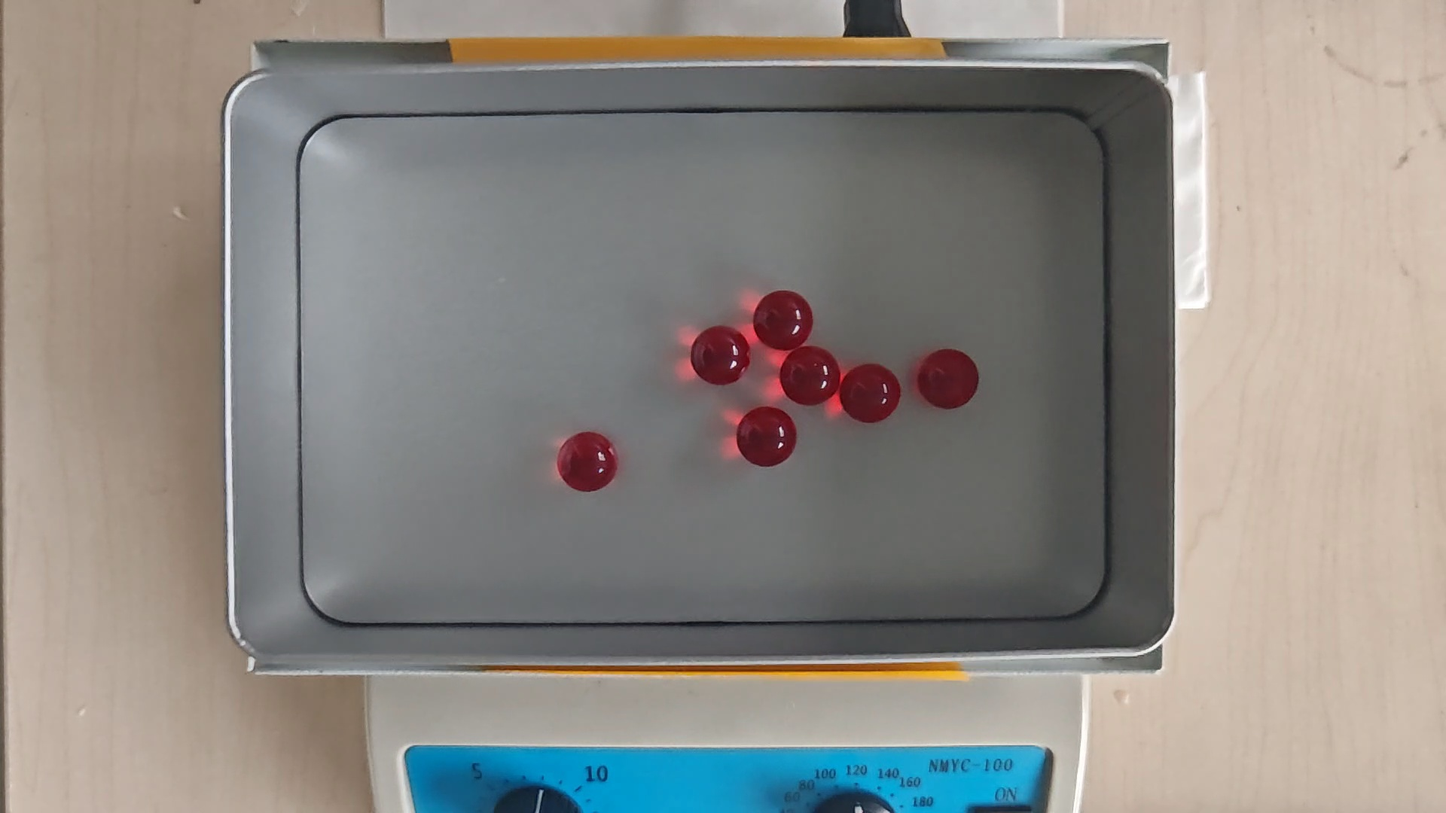ball: (737, 405, 797, 467), (558, 431, 618, 492), (917, 349, 978, 409), (842, 361, 901, 423), (753, 291, 814, 349), (781, 348, 840, 406), (694, 324, 748, 385)
container: (299, 110, 1107, 623)
